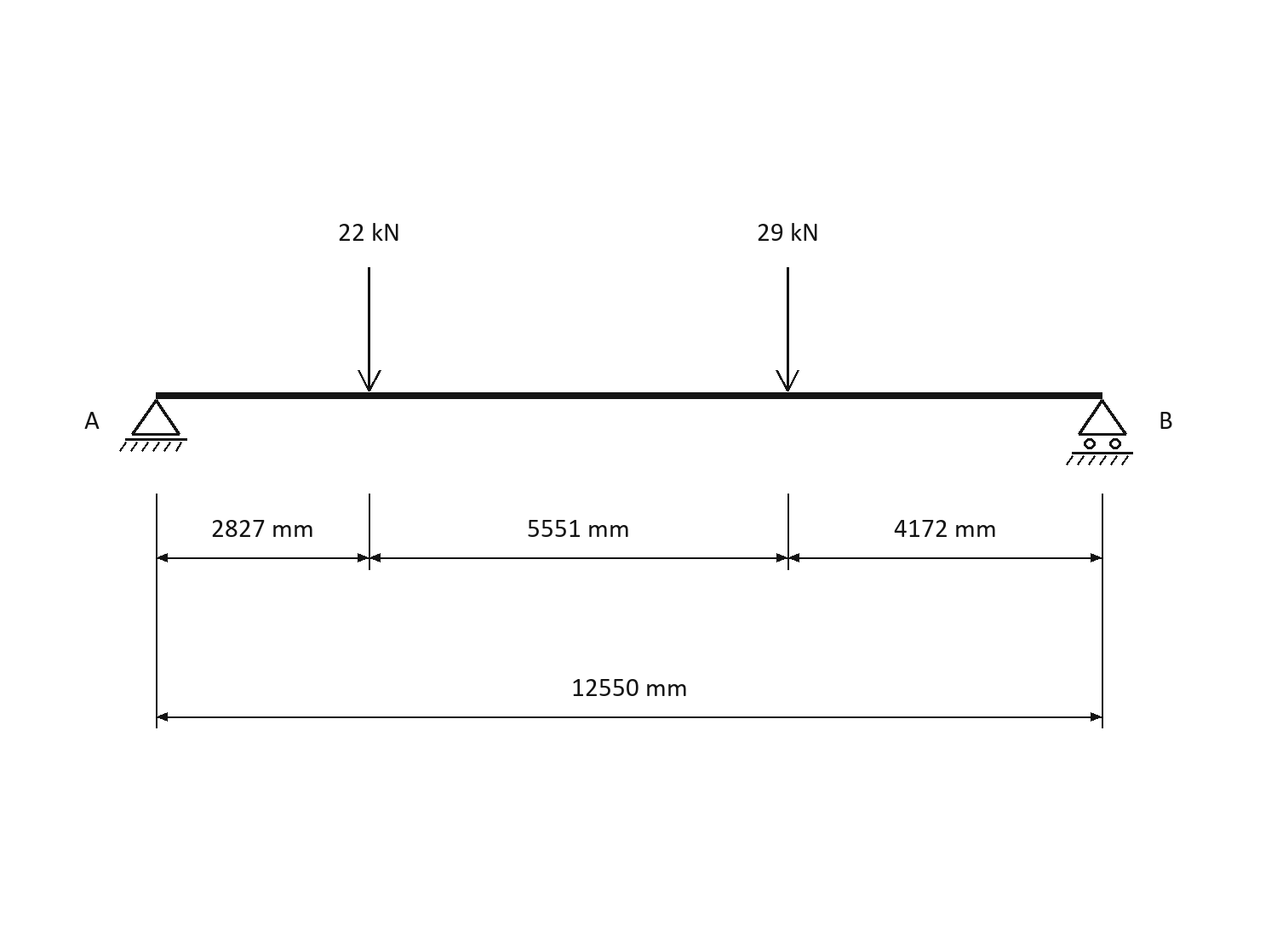pin_support: (119, 399, 187, 452)
point_load: (358, 267, 381, 391), (776, 267, 799, 391)
roller_support: (1066, 399, 1133, 465)
